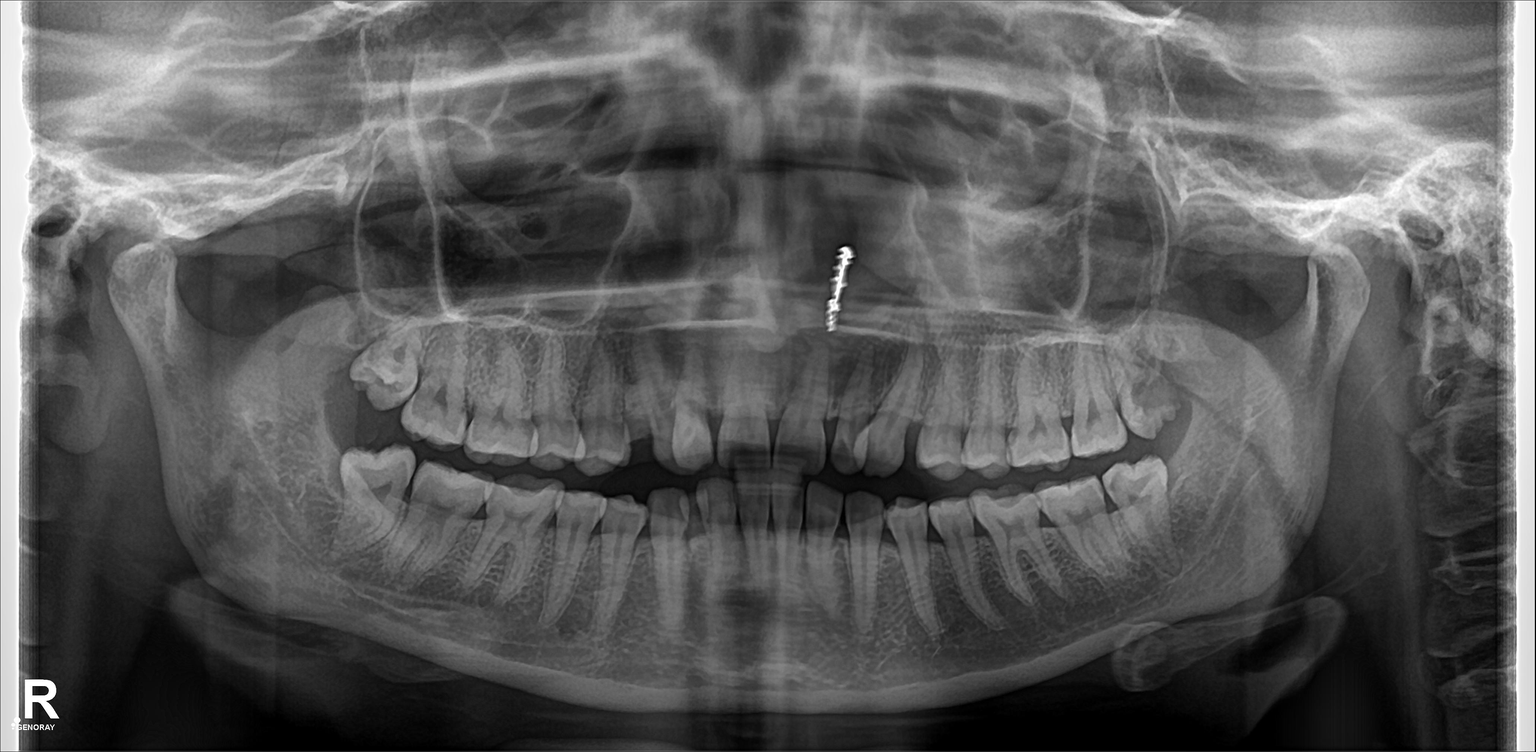Dental Caries: (1125, 372, 1181, 411), (626, 406, 650, 442)
Impacted Third Molar: (356, 311, 425, 416)
